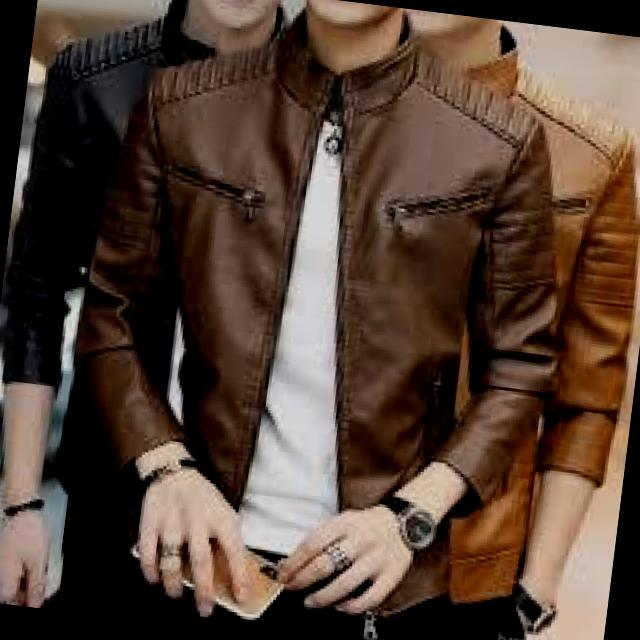jacket: (47, 0, 597, 640)
